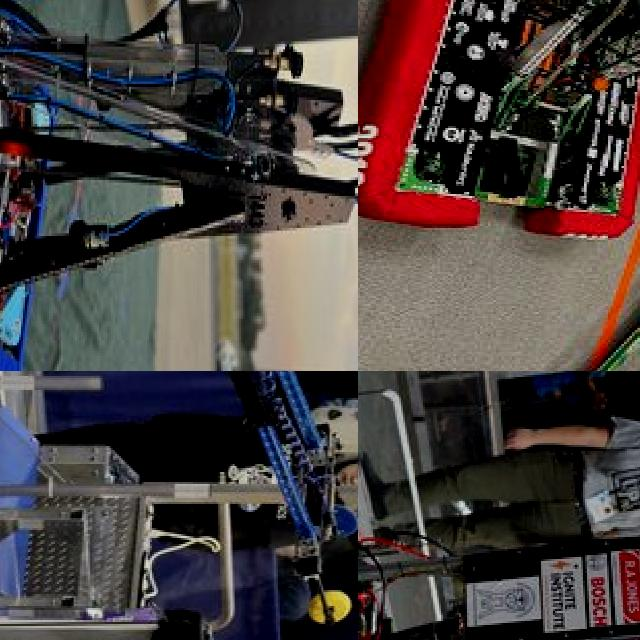FRC-Robots: (0, 0, 358, 371), (358, 0, 640, 280), (358, 371, 640, 640), (0, 371, 358, 478)
